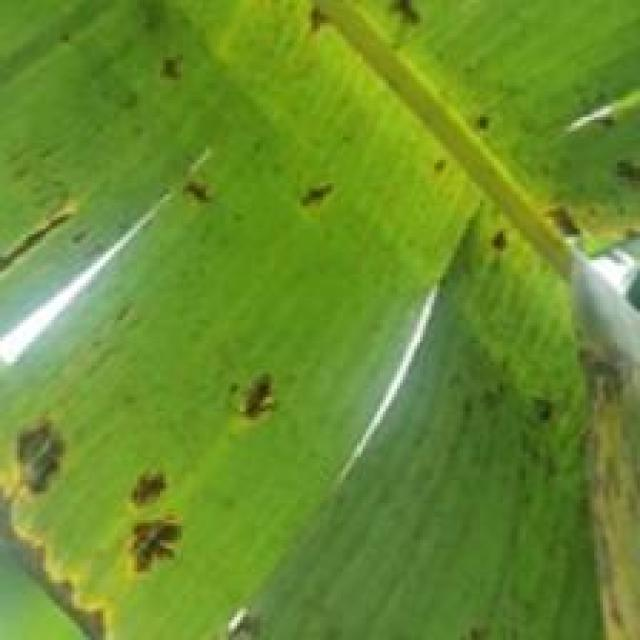Downey_mildrew: (478, 323, 640, 632), (2, 409, 218, 640), (125, 57, 379, 247), (456, 98, 556, 294), (510, 147, 640, 289), (0, 186, 113, 298), (282, 0, 473, 66), (222, 358, 325, 427)
